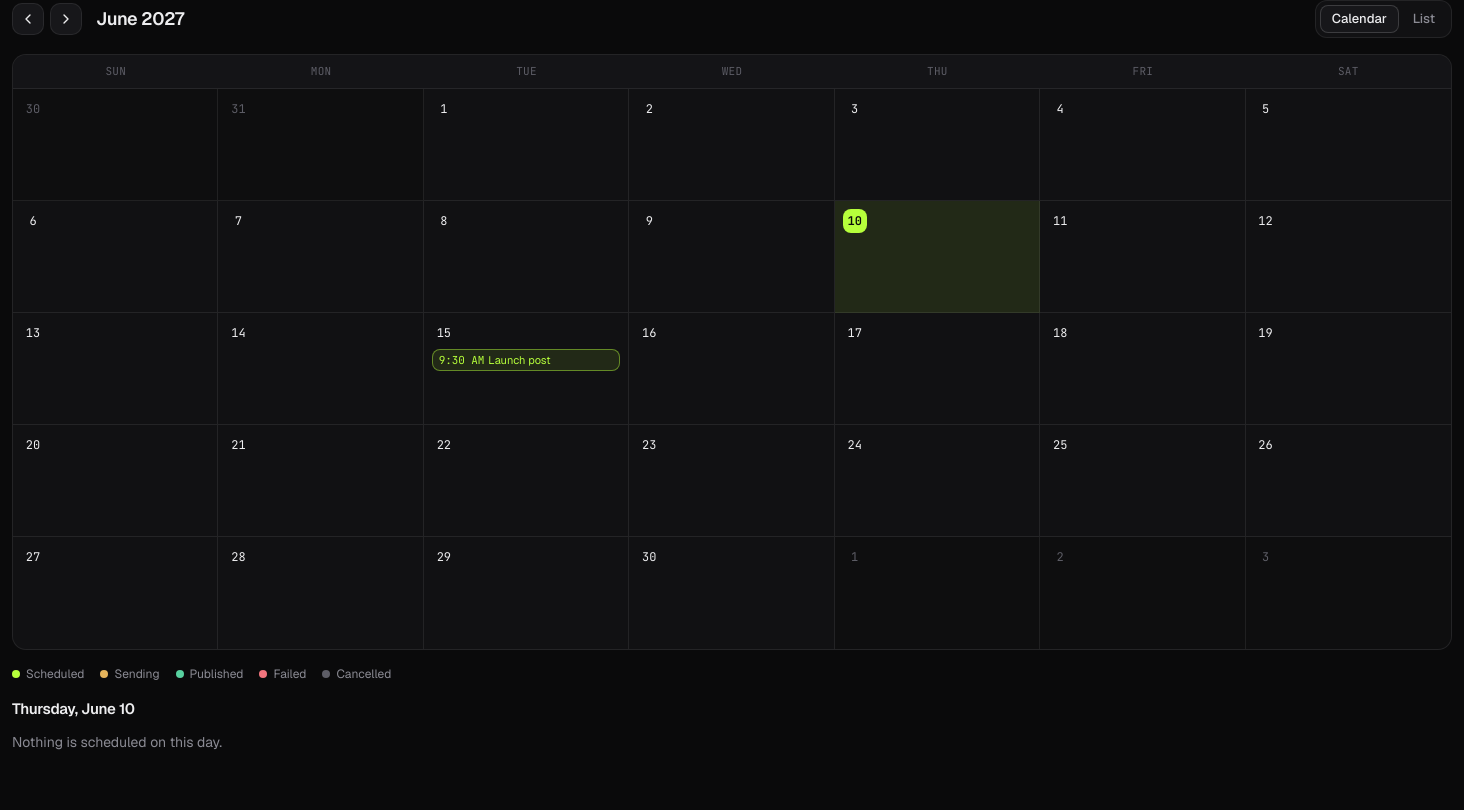
CalendarView › lists the selected day's jobs, and says so when a day is empty
Expected: the text "Nothing is scheduled on this day." is shown, 12,733 -> 222,751
Click the button named "Tuesday, June 15, 1 item" at (444, 332), box 432,320 -> 456,344
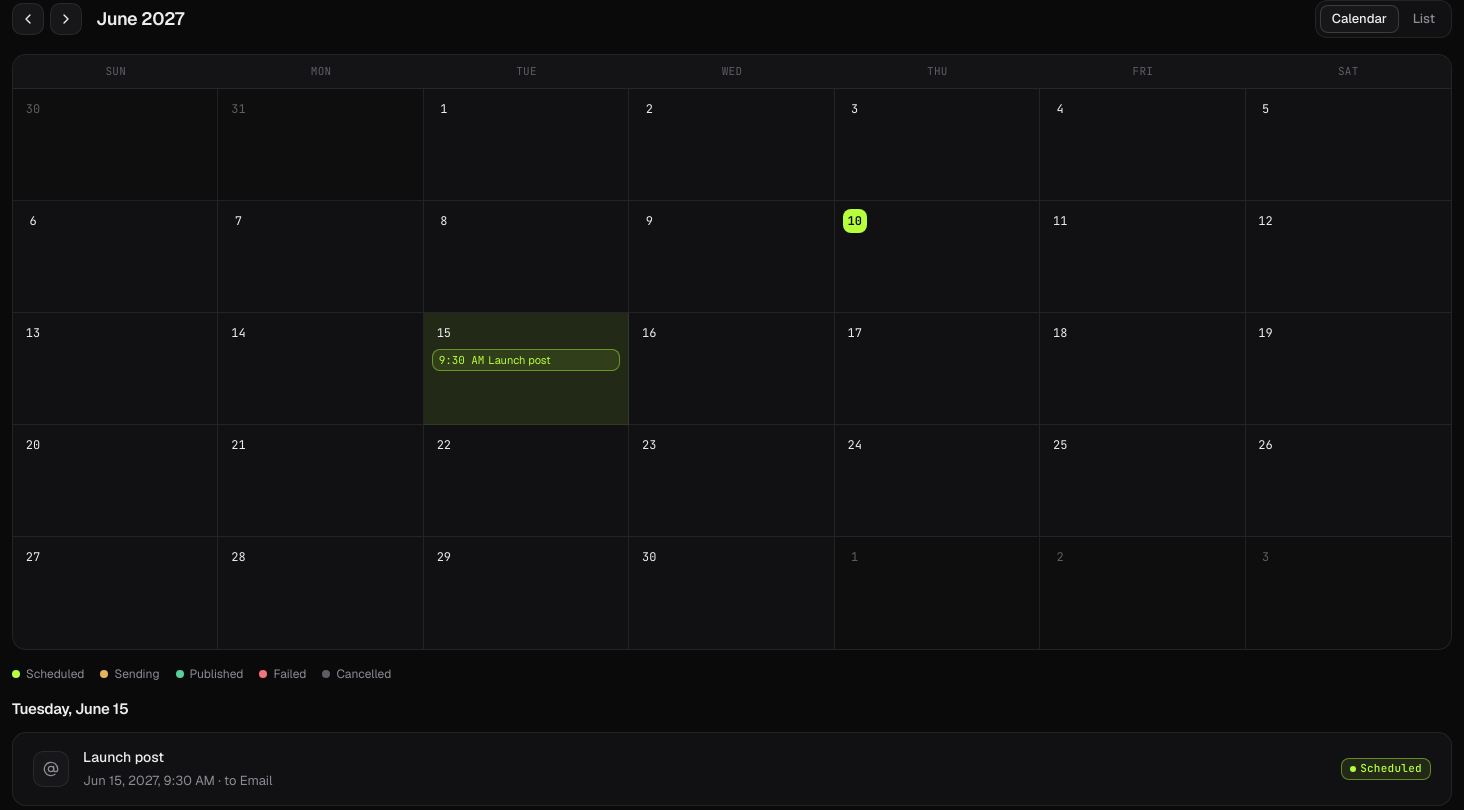
Expected: the text "Launch post" below "Tuesday, June 15" is shown, 83,748 -> 164,766
Expected: the text "Jun 15, 2027, 9:30 AM · to Email" is shown, 83,771 -> 272,790
